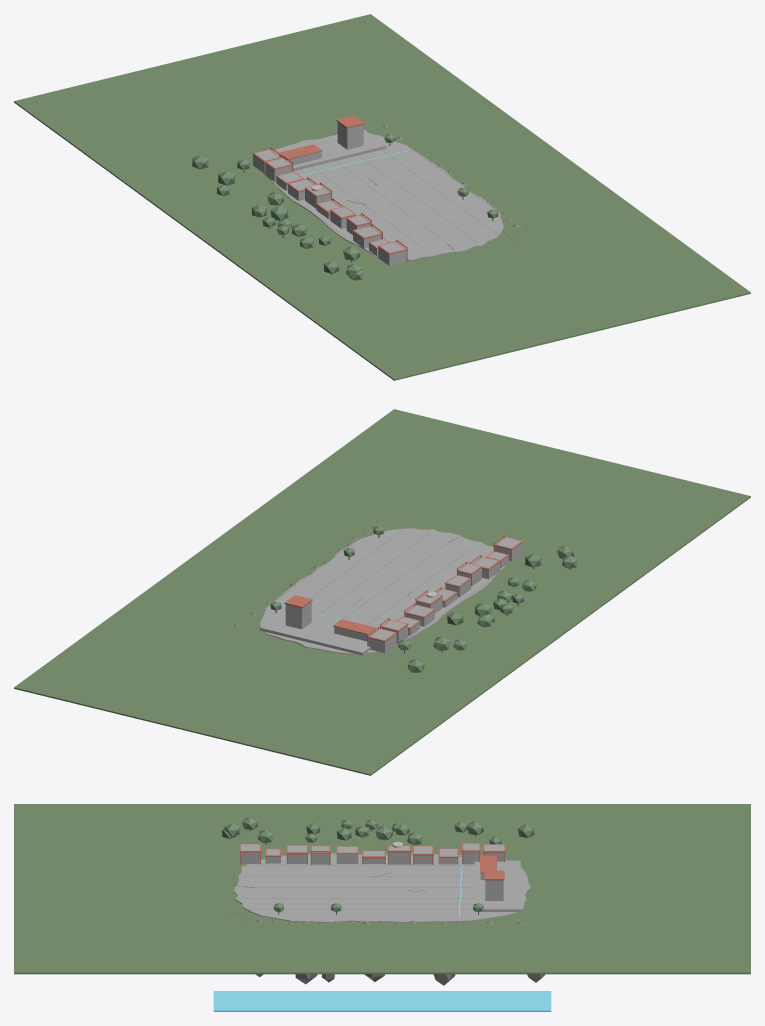
Rendered from fracture.glb.
3 views of the same model, one above another, from view 1: azimuth 30°, elevation 25°; view 2: azimuth 150°, elevation 25°; view 3: azimuth 270°, elevation 25° (orthographic). The views are drawn at different scales.
Parts seen in each view (by area): view 1: Static; view 2: Static; view 3: Static.
Part boxes in pixels (box(x1,y1,x2,y2)): Static: box(14, 14, 750, 380); Static: box(14, 409, 750, 775); Static: box(14, 804, 750, 1011).
Bounding box in the file's own units: 52 × 12.6 × 96.
